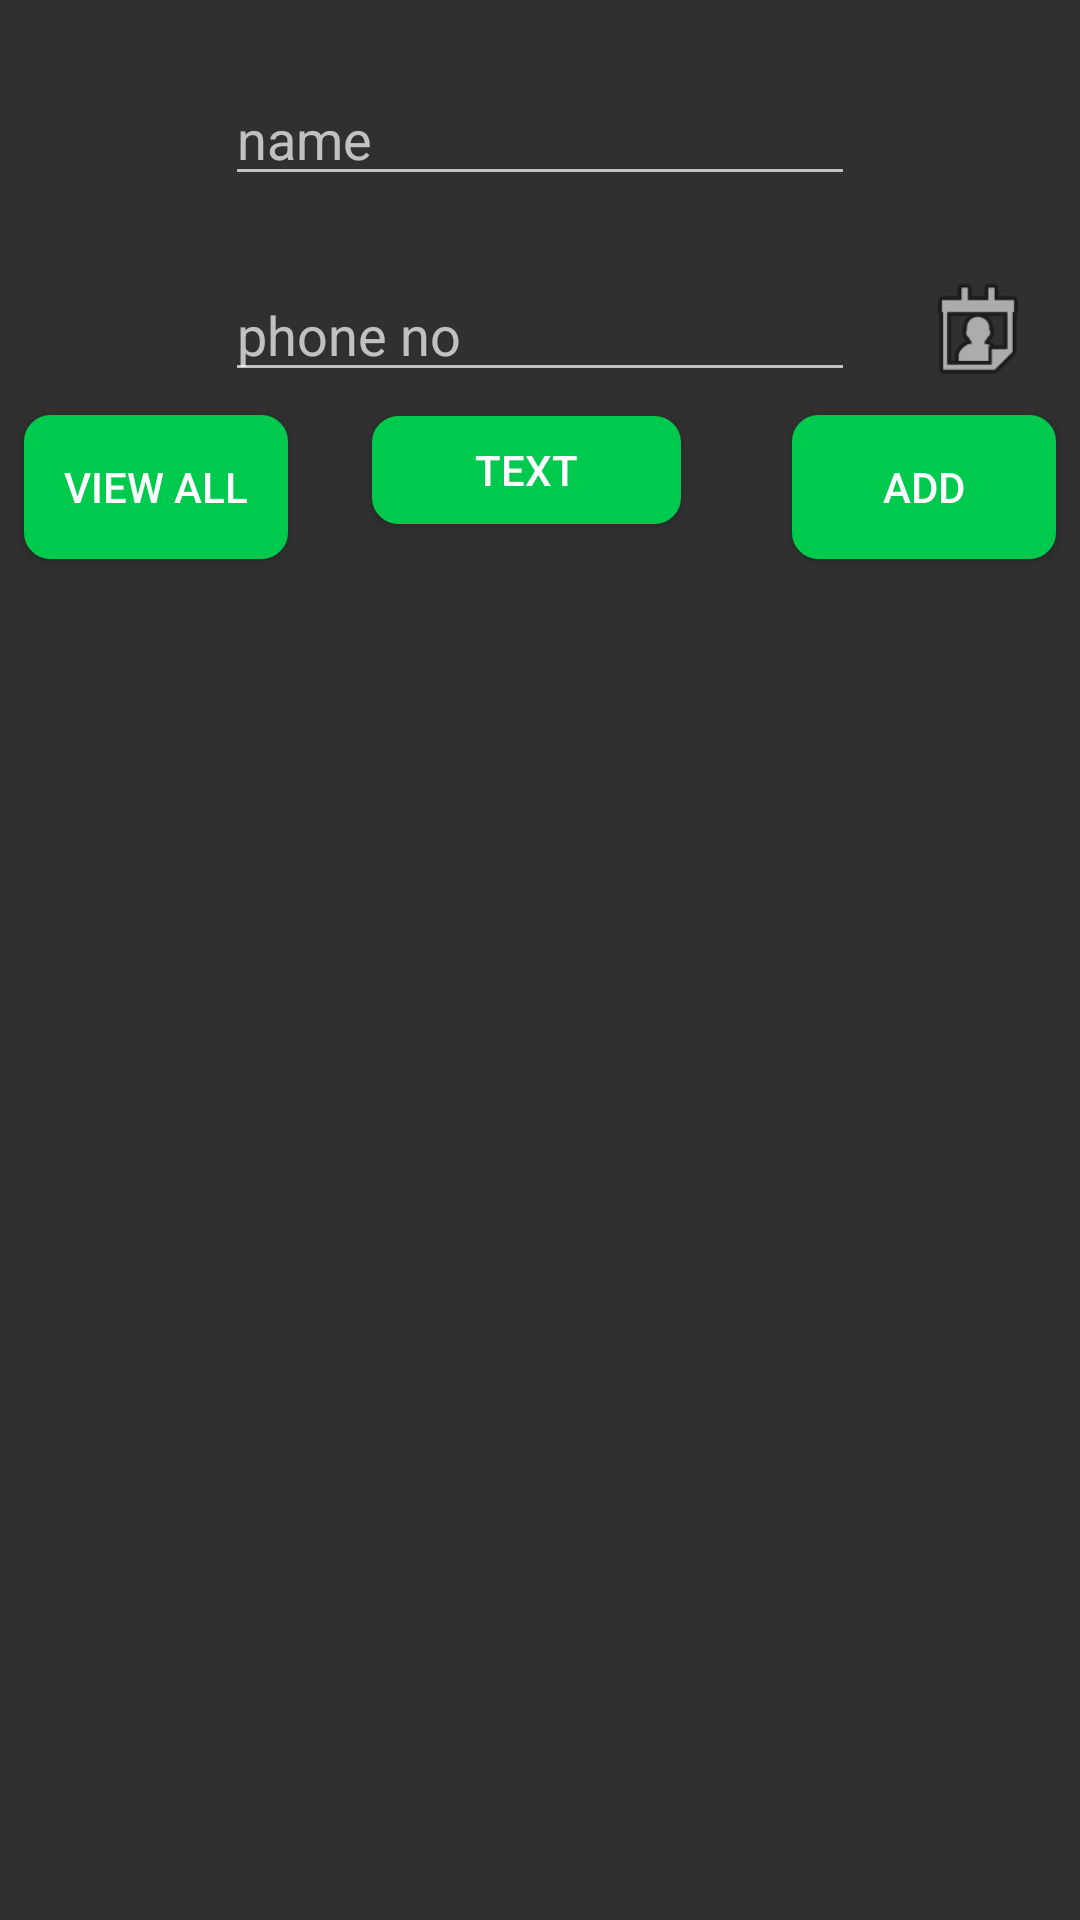

Screen size 1080 x 1920. Icon name, then its center in pixels as point (x, y):
calendar: point (978, 328)
